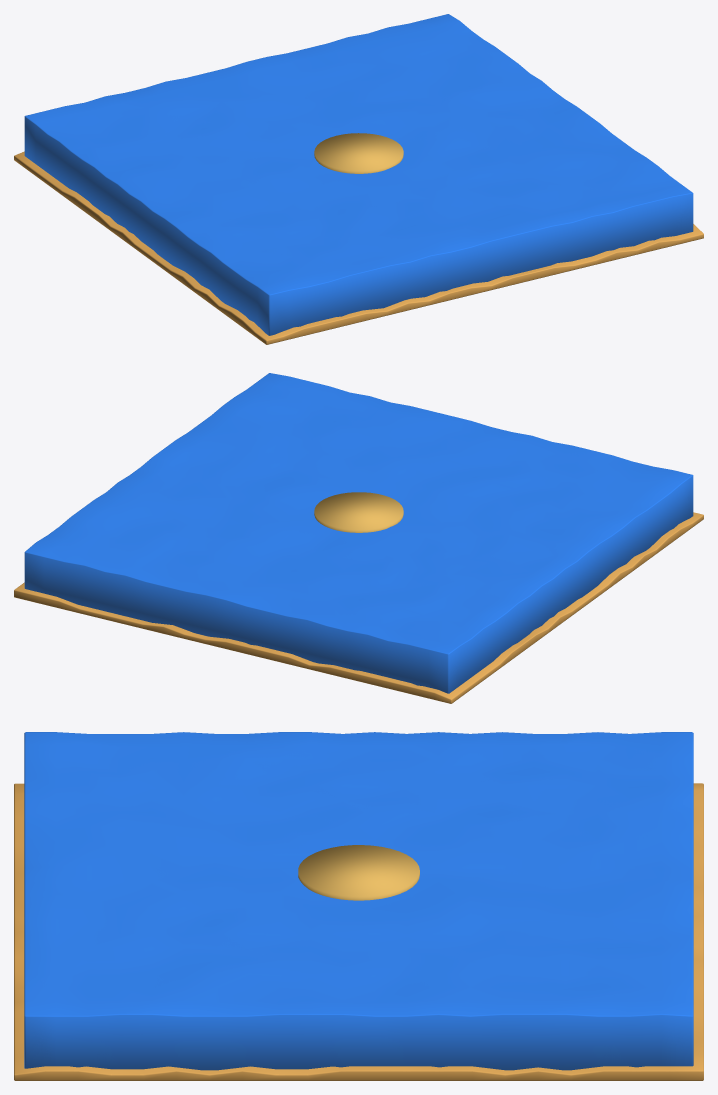
Rendered from landBlabla.gltf.
3 views of the same model, one above another, from view 1: azimuth 30°, elevation 25°; view 2: azimuth 150°, elevation 25°; view 3: azimuth 270°, elevation 25° (orthographic). The views are drawn at different scales.
Visible parts, largest first — view 1: Plane, Cube, Cylinder; view 2: Plane, Cube, Cylinder; view 3: Plane, Cube, Cylinder.
Part boxes in pixels (x1=…): Plane: x1=24, y1=14, x2=693, y2=335; Cube: x1=14, y1=151, x2=703, y2=344; Cylinder: x1=314, y1=133, x2=403, y2=173; Plane: x1=24, y1=373, x2=693, y2=693; Cube: x1=14, y1=512, x2=703, y2=703; Cylinder: x1=314, y1=492, x2=403, y2=532; Plane: x1=24, y1=732, x2=693, y2=1070; Cube: x1=14, y1=783, x2=703, y2=1080; Cylinder: x1=298, y1=845, x2=419, y2=900.
Bounding box in the file's own units: 339 × 35.11 × 339.
